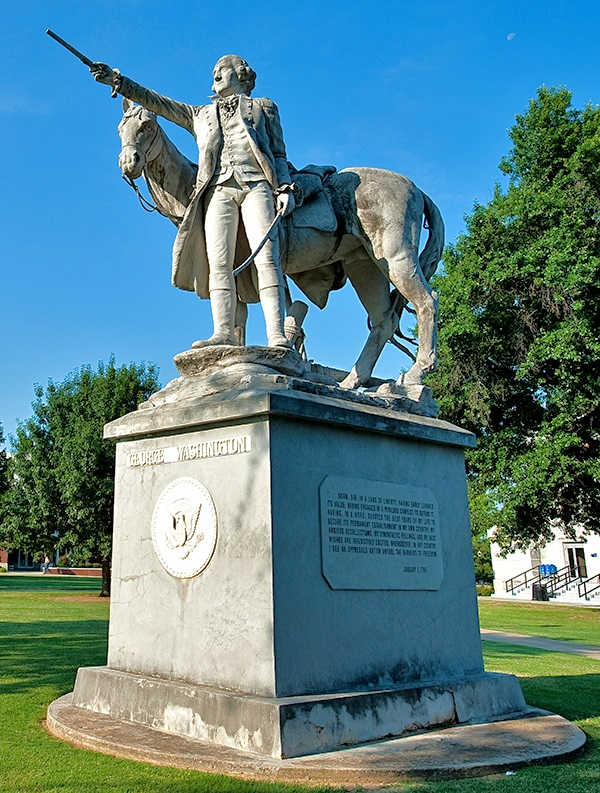person-like: (79, 48, 313, 363)
